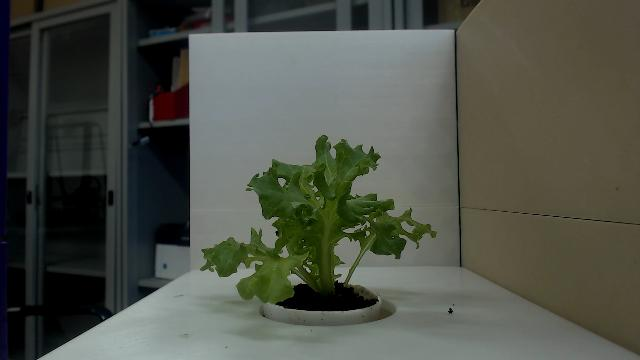Vegetative Stage: (200, 134, 438, 307)
